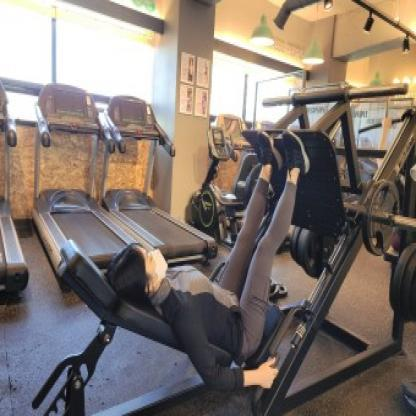leg press: (32, 54, 416, 416)
